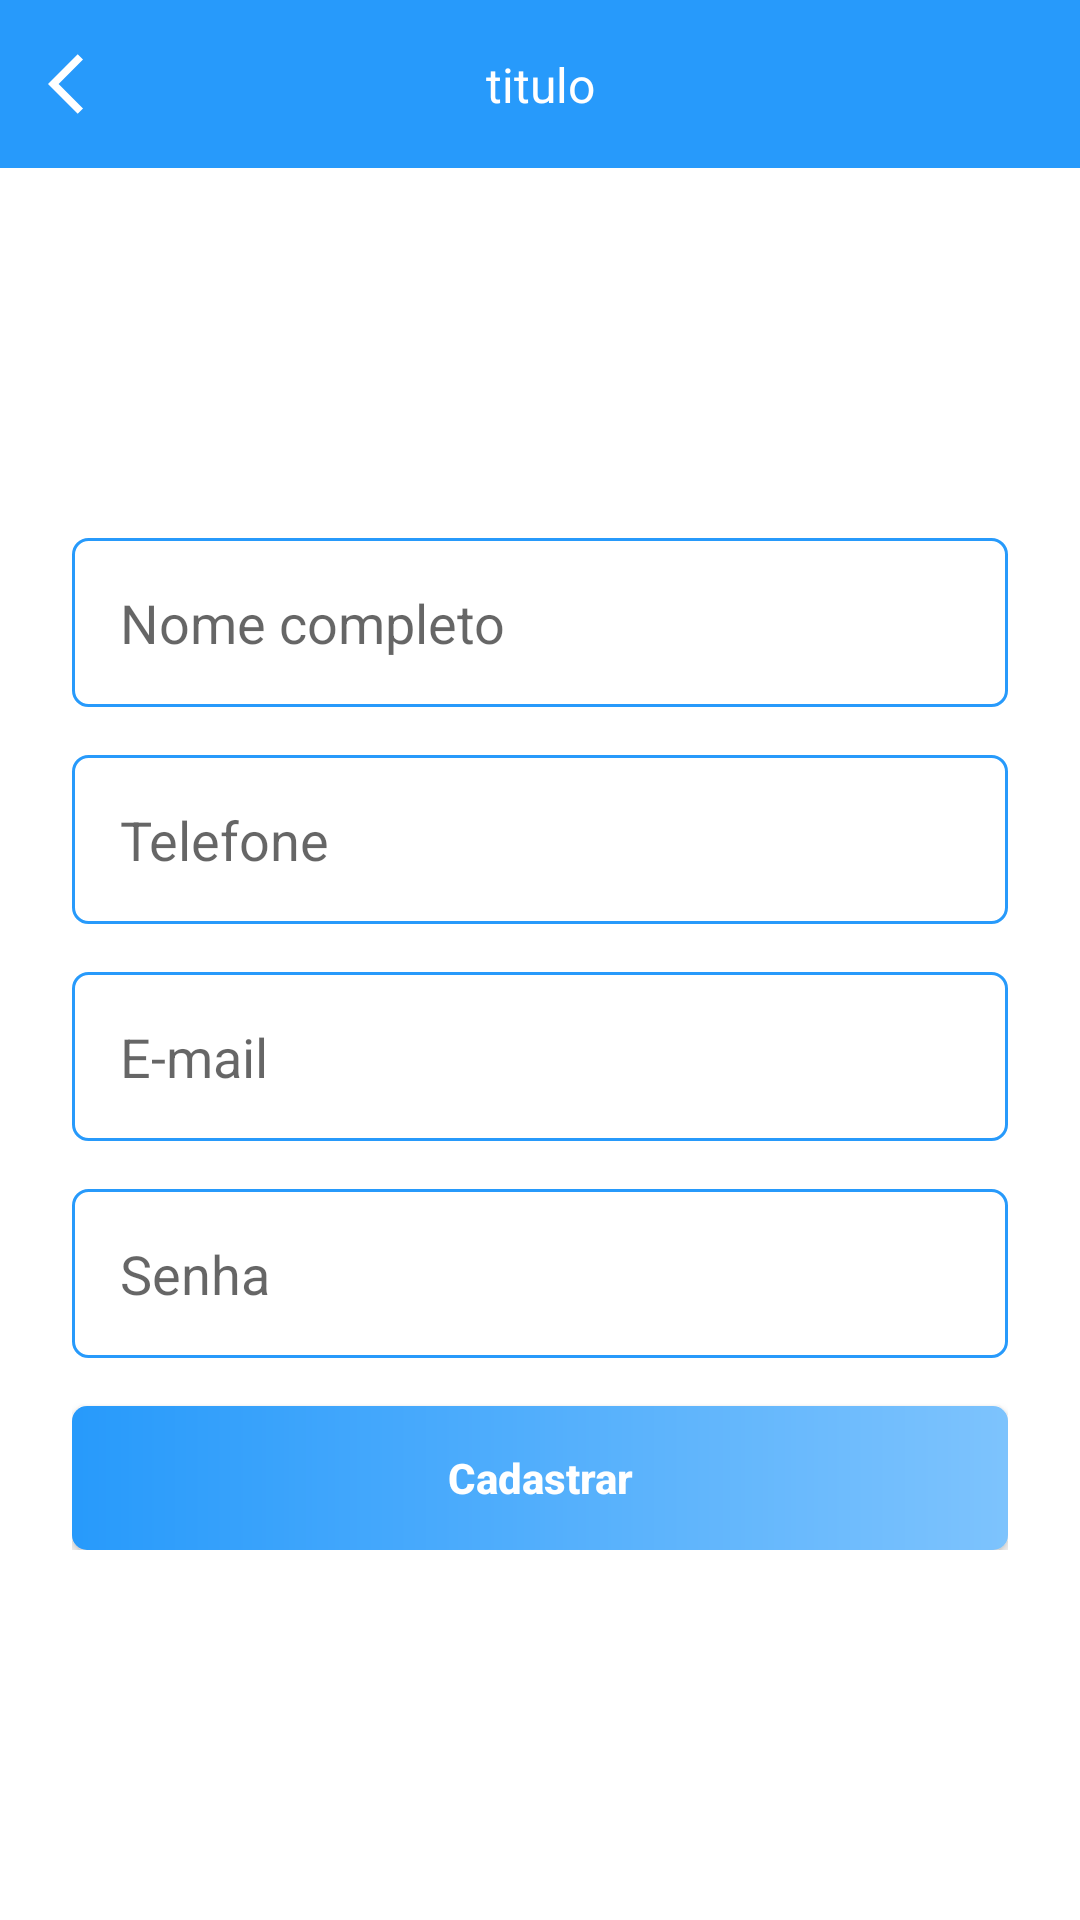

Point at icon controls on the screen. Image size 1080 x 1920, points as (x,y).
back: (65,84)
